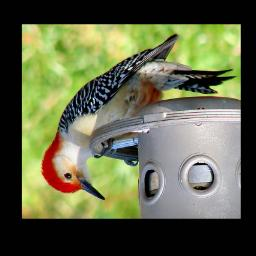Woodpecker: (41, 33, 236, 200)
